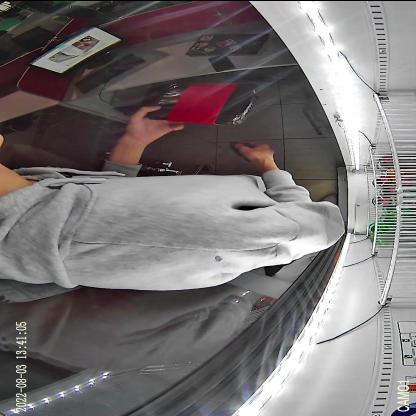red: (146, 81, 260, 125)
